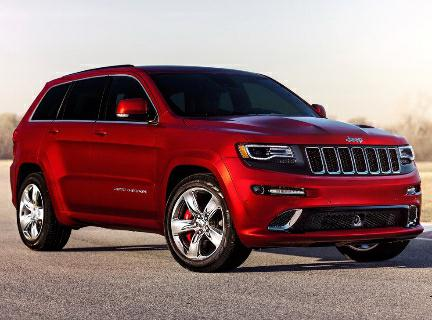Jeep-大切诺基SRT: (4, 60, 428, 284)
